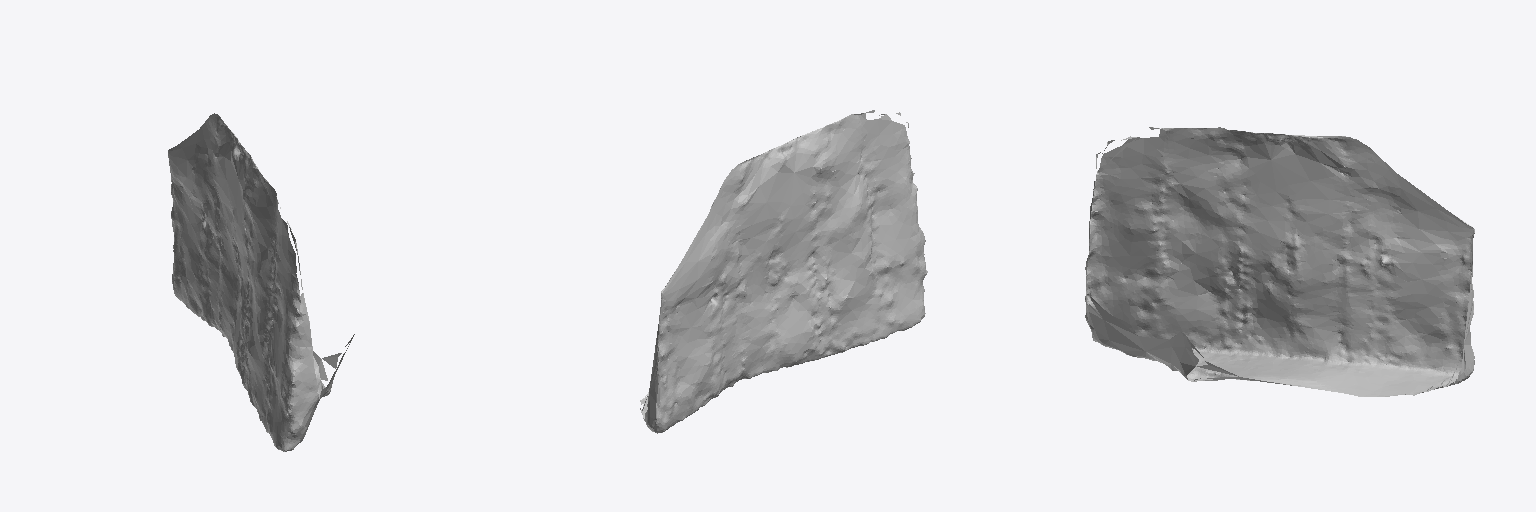
Rendered from closet_vina_2.obj.
3 views of the same model, side by side, from view 1: azimuth 30°, elevation 25°; view 2: azimuth 150°, elevation 25°; view 3: azimuth 270°, elevation 25° (orthographic).
Parts seen in each view (by area): view 1: mesh; view 2: mesh; view 3: mesh.
Boxes of the visible parts, x1,y1,x2,y2 form: mesh: [168, 113, 354, 451]; mesh: [640, 110, 927, 433]; mesh: [1085, 127, 1474, 396].
Size of the model in its own units: 1.3 by 2.22 by 3.34.